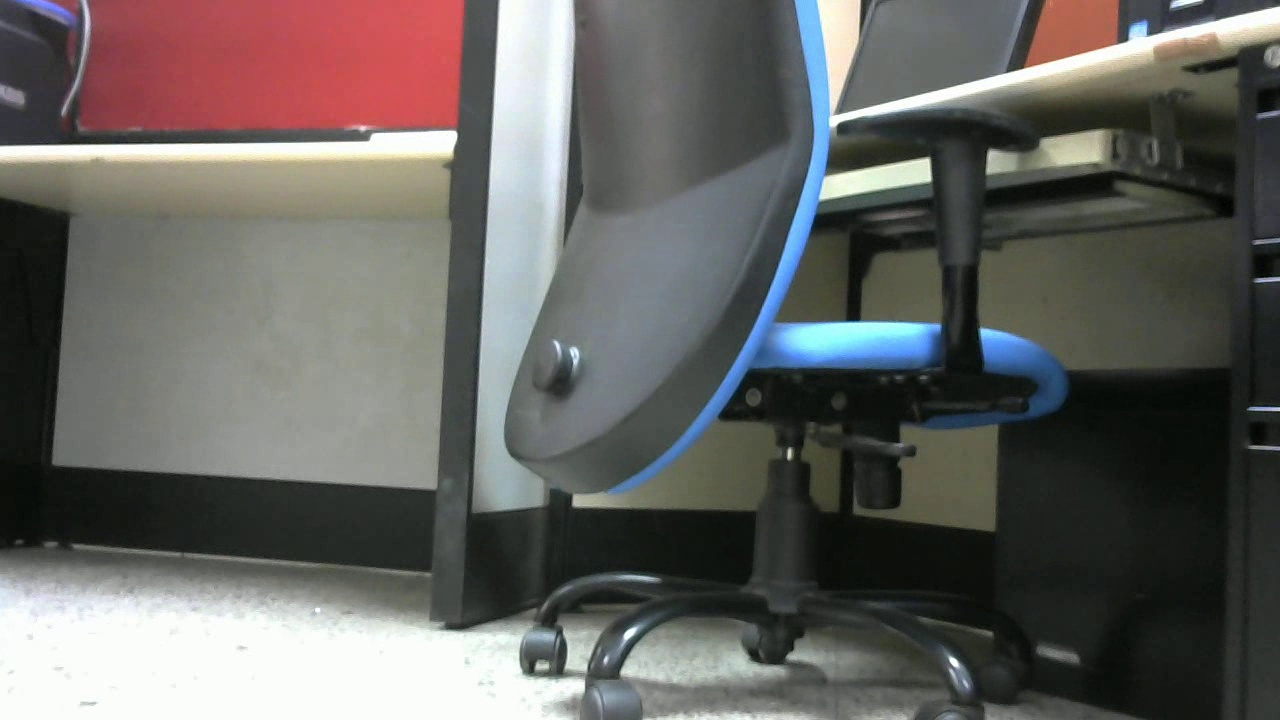chair: (501, 1, 1069, 720)
